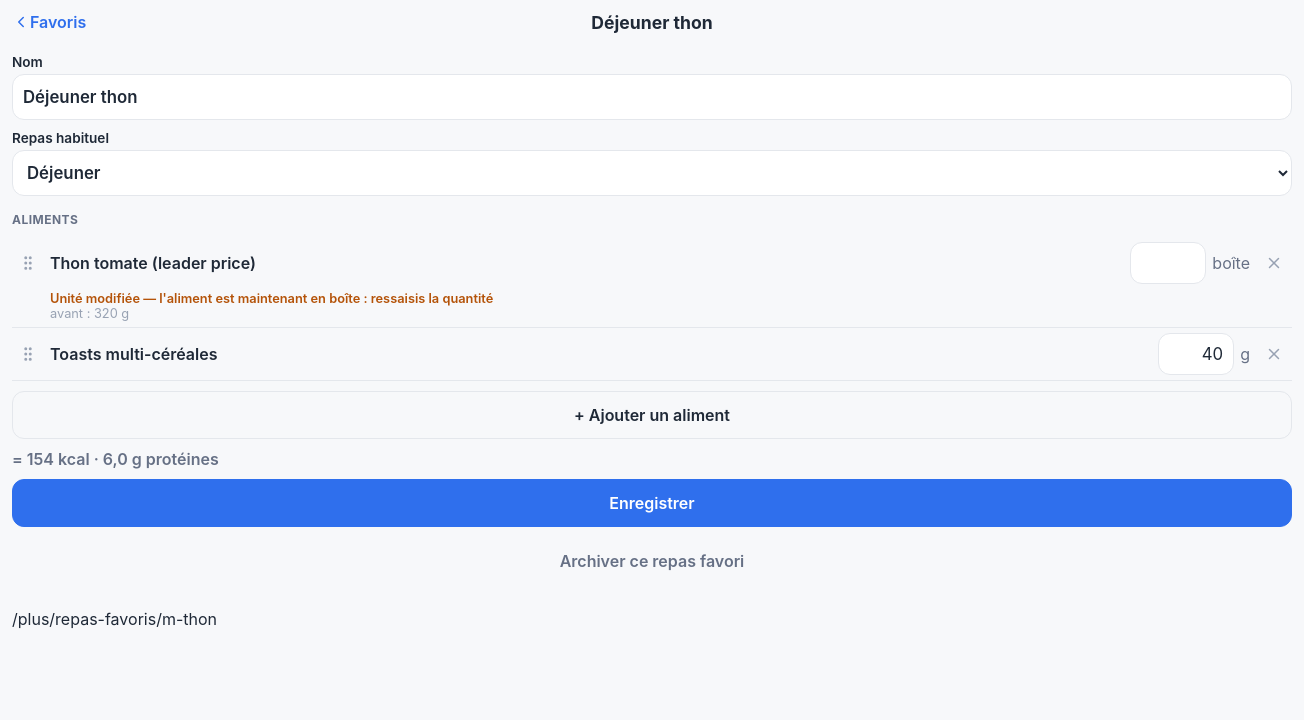
Scenario: création et modification › unité modifiée : signalée, quantité vidée avec l'ancienne affichée ; refus tant que non corrigée ; corrigée : nouvelle unité mémorisée
Expected: the heading "Déjeuner thon" is shown, [591,12,713,32]
Expected: the text "Unité modifiée — l'aliment est maintenant en boîte" is shown, [50,291,493,306]
Click the button "Enregistrer" at (652, 503), box [12,479,1292,527]
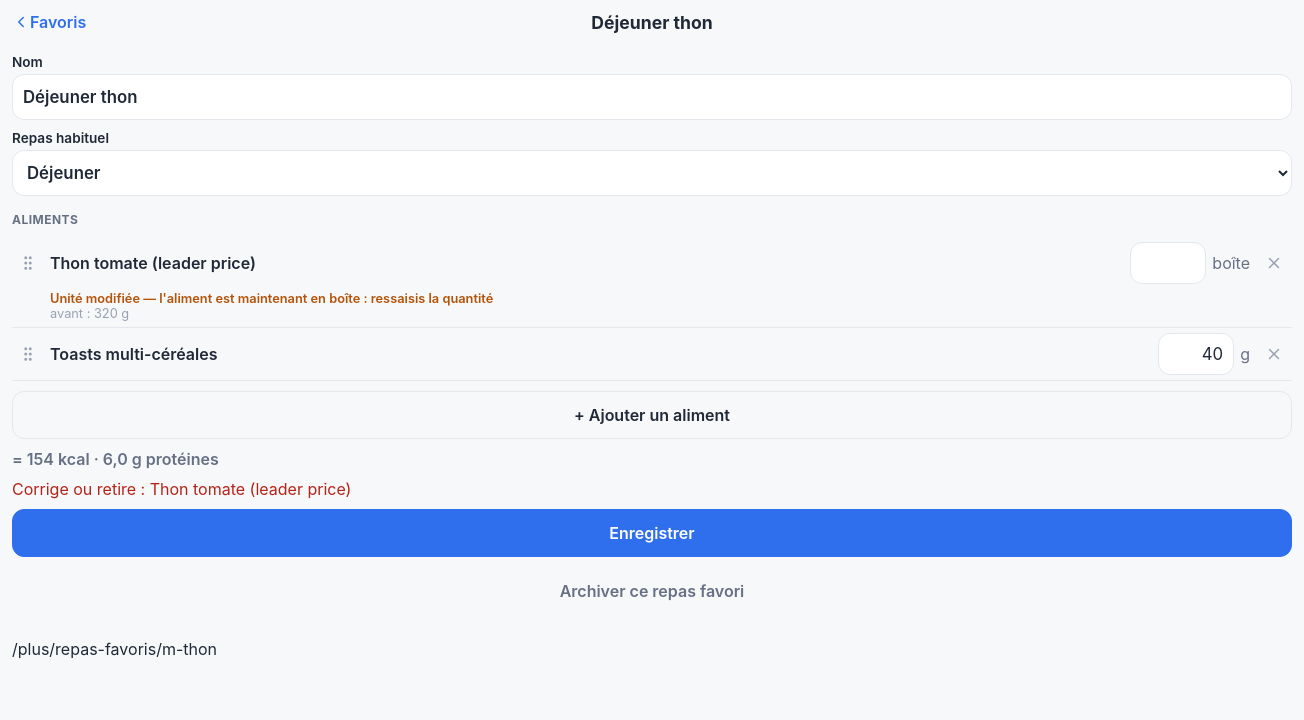
Expected: the message reads "Corrige ou retire : Thon tomate (leader price)", [12,479,351,499]
Type "2" into the field named "Quantité : Thon tomate (leader price)" at (1168, 263), box [1130,242,1206,284]
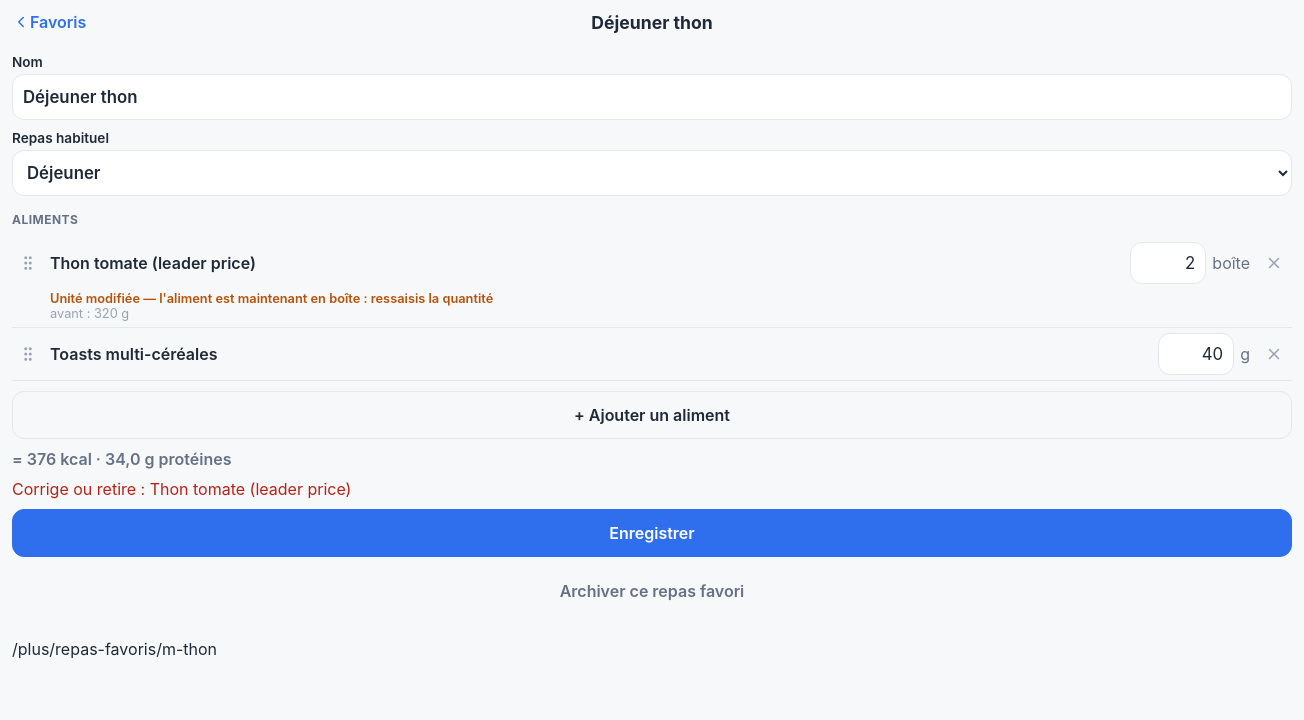
Click the button "Enregistrer" at (652, 533), box [12,509,1292,557]
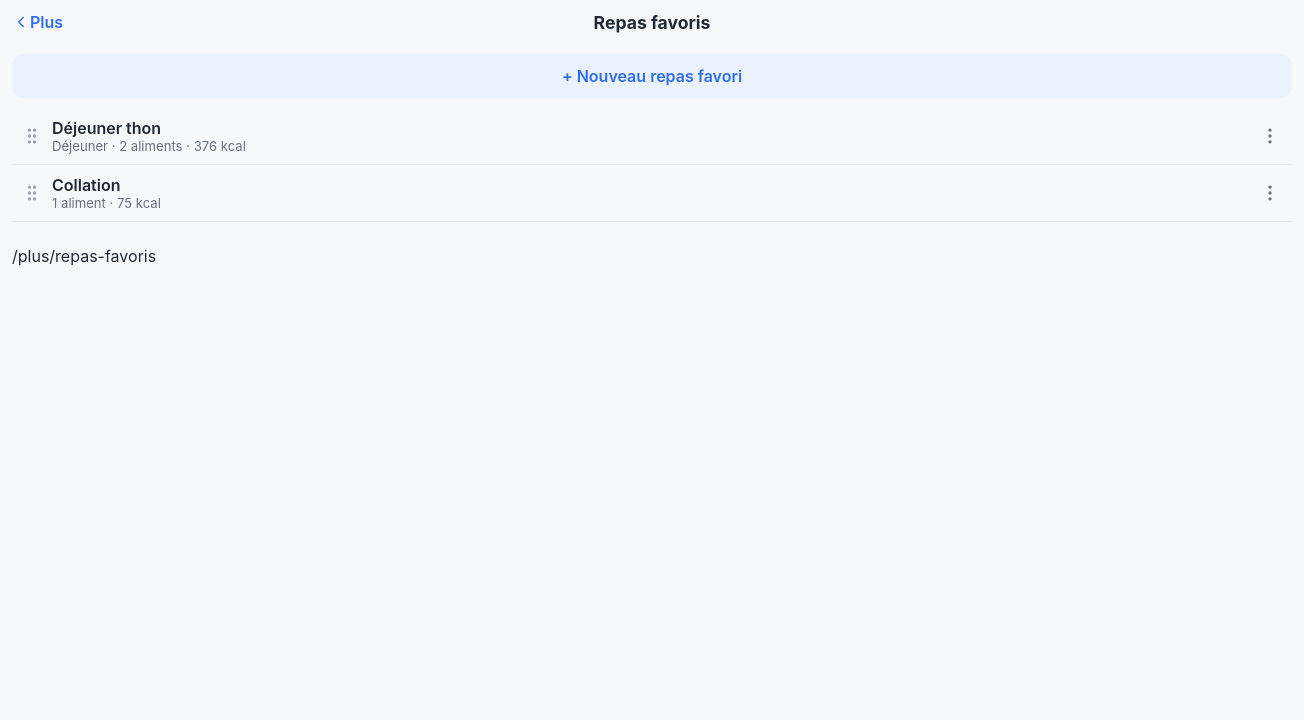
Expected: the text with test id "url" reads "/plus/repas-favoris", [12,246,156,266]
